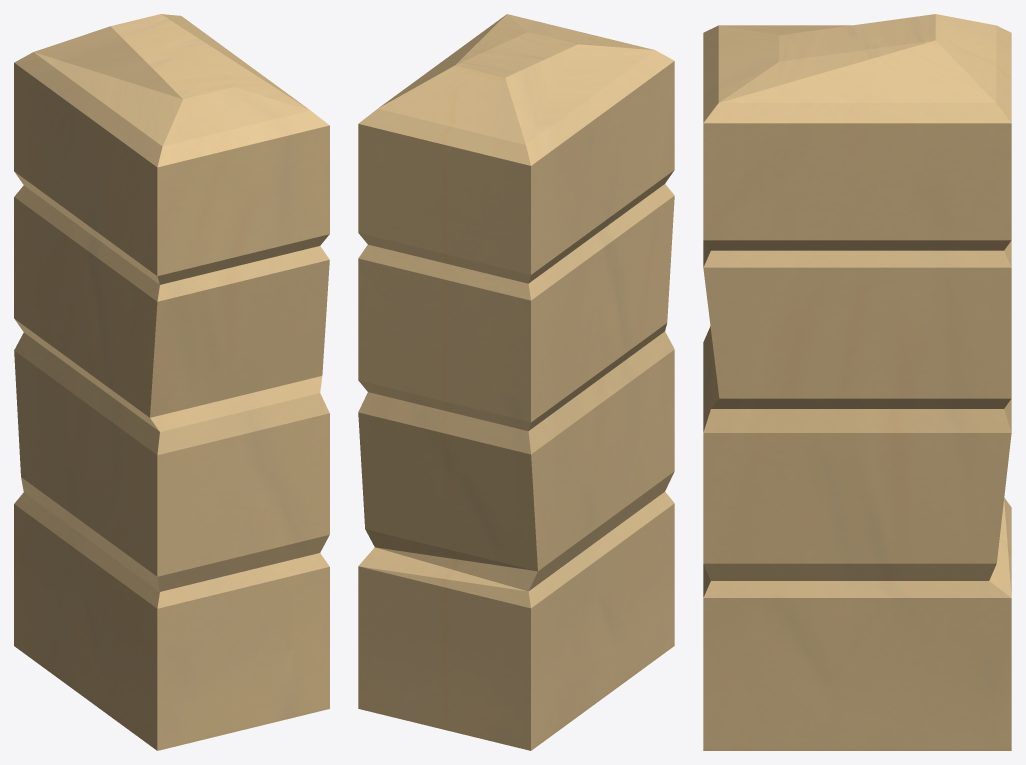
File: Column4B.FBX
3 renders of one model, left to right at view 1: azimuth 30°, elevation 25°; view 2: azimuth 150°, elevation 25°; view 3: azimuth 270°, elevation 25°, orthographic. The views are drawn at different scales.
Parts seen in each view (by area): view 1: Column4B; view 2: Column4B; view 3: Column4B.
Boxes of the visible parts, x1,y1,x2,y2 form: Column4B: [14, 14, 329, 750]; Column4B: [358, 14, 674, 750]; Column4B: [703, 14, 1011, 750].
Size of the model in its own units: 7.31 by 10.53 by 25.57.
Materials: 1 (1 with a texture image).
